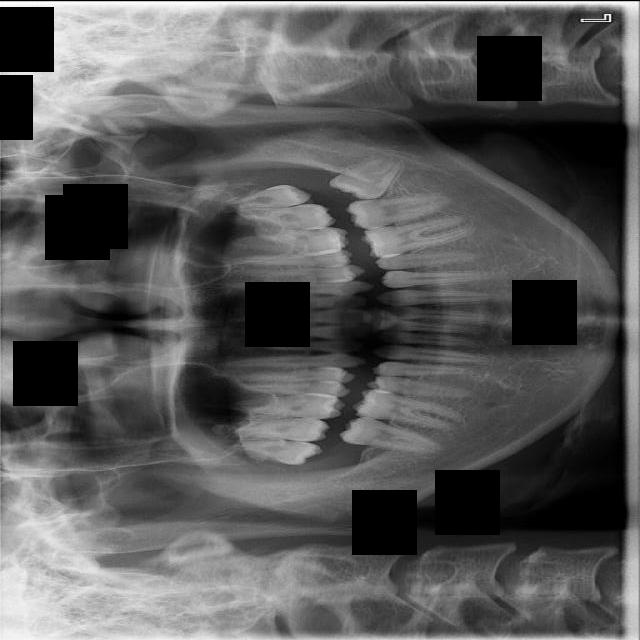3M ESPE Implant: (224, 431, 323, 468)
73: (592, 86, 598, 92)
BioHorizons Implant: (230, 202, 337, 232)
BioLife Implant: (223, 182, 313, 210)
Biomet 3i Implant: (326, 145, 411, 215)
Blue Sky Bio Implant: (344, 193, 453, 230)
Caries: (232, 416, 331, 440)
Implant: (339, 413, 437, 453)
